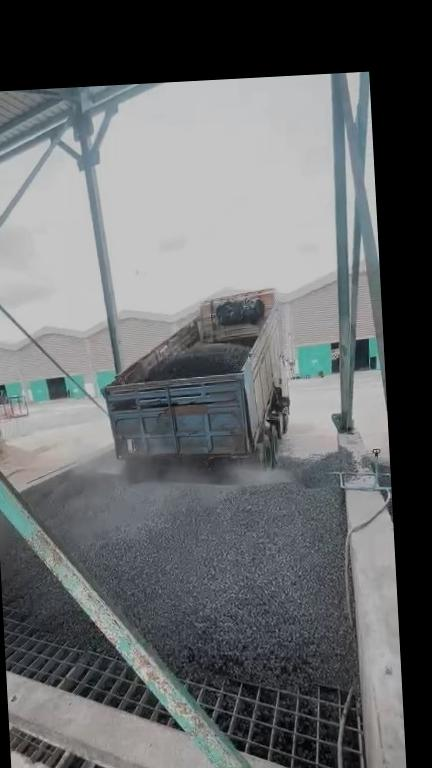gravel: (27, 439, 356, 689), (0, 519, 106, 649), (146, 344, 251, 380), (378, 454, 393, 521)
sand: (0, 442, 74, 484)
